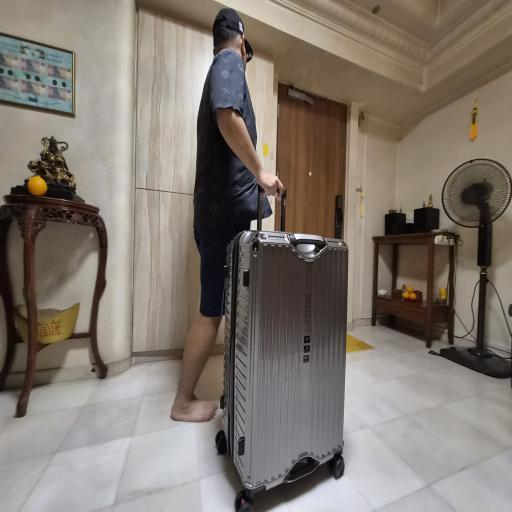person_right: (138, 19, 352, 498)
